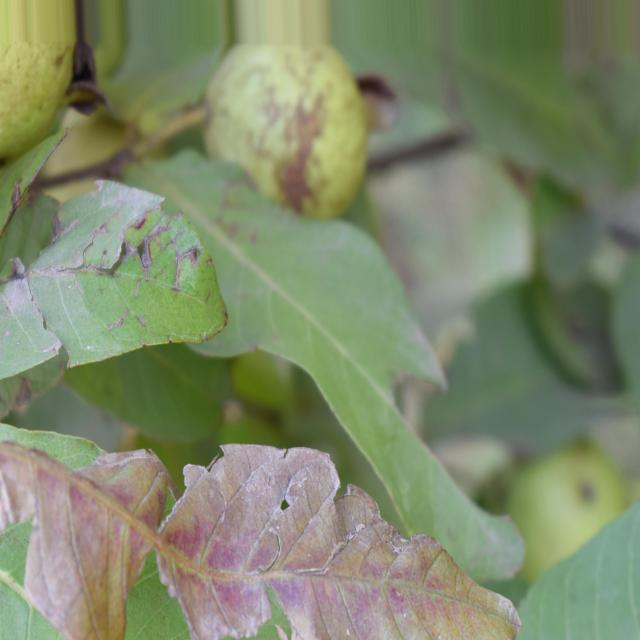Canker: (0, 429, 521, 639), (0, 180, 226, 379)
